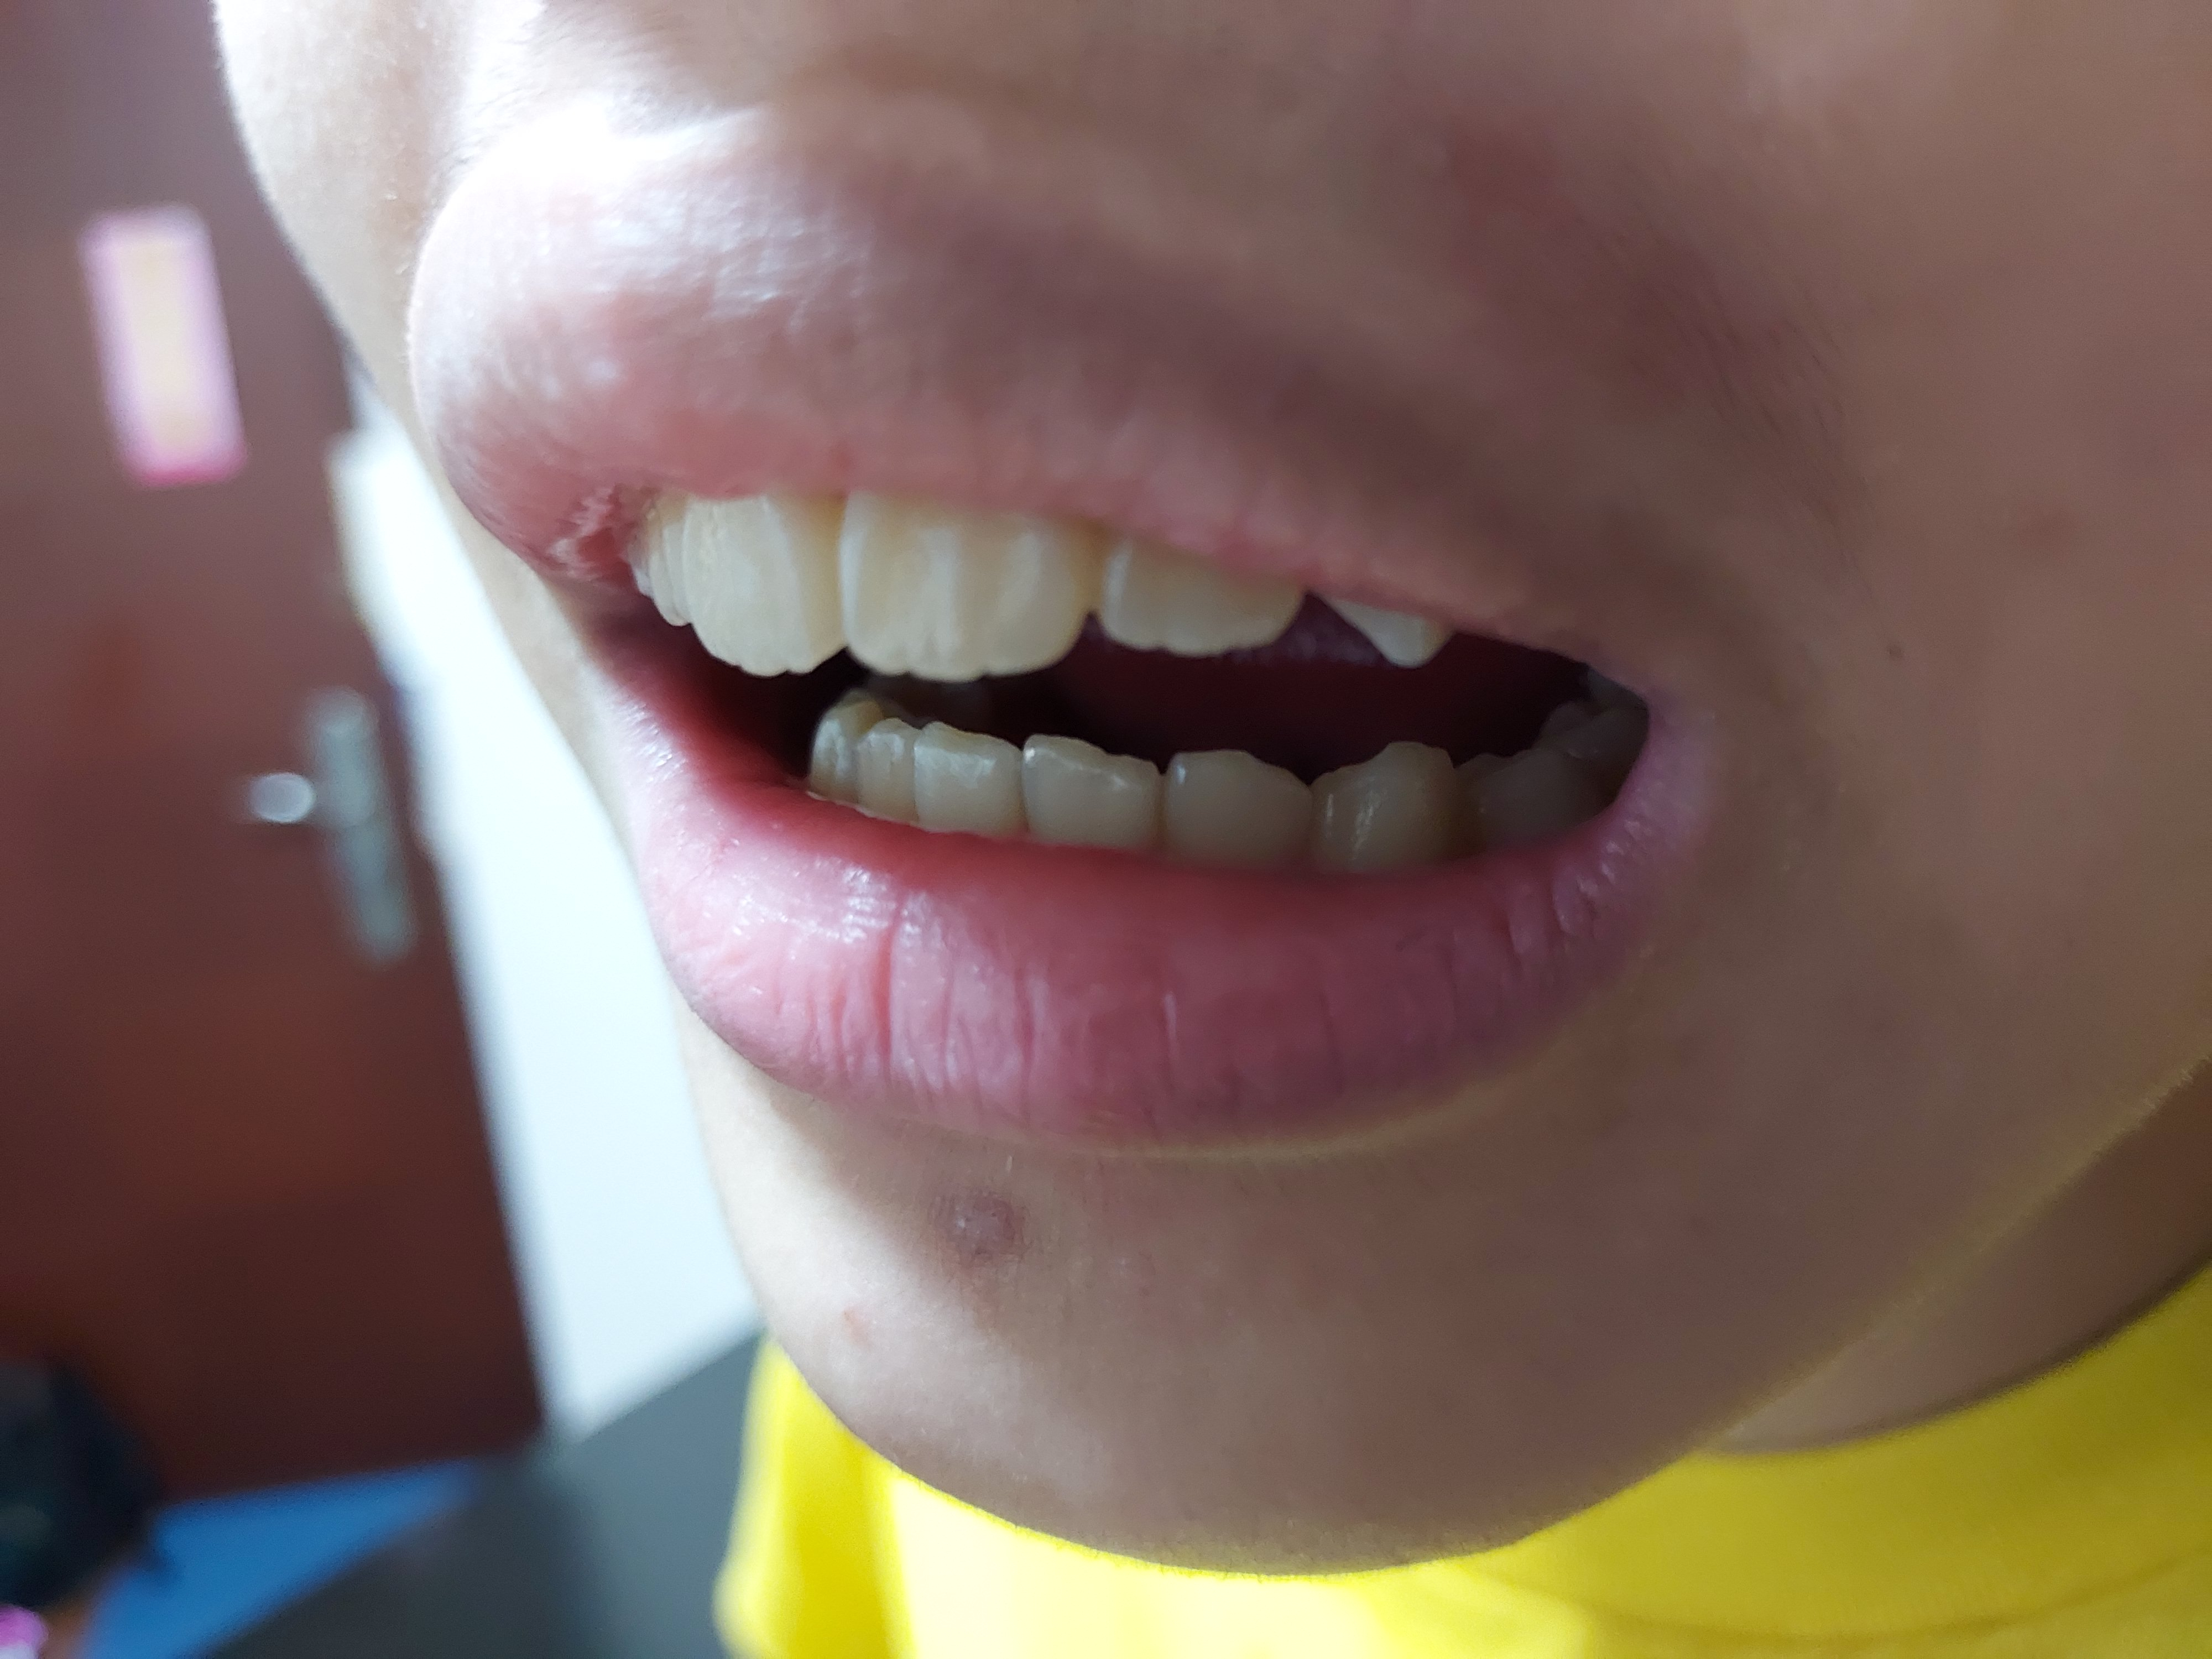teeth: (852, 500, 1062, 666), (688, 518, 819, 648), (1129, 561, 1278, 629), (921, 732, 1015, 828), (1198, 758, 1287, 842), (1352, 755, 1430, 847), (1043, 758, 1136, 824), (857, 721, 906, 814), (1510, 755, 1581, 809)
